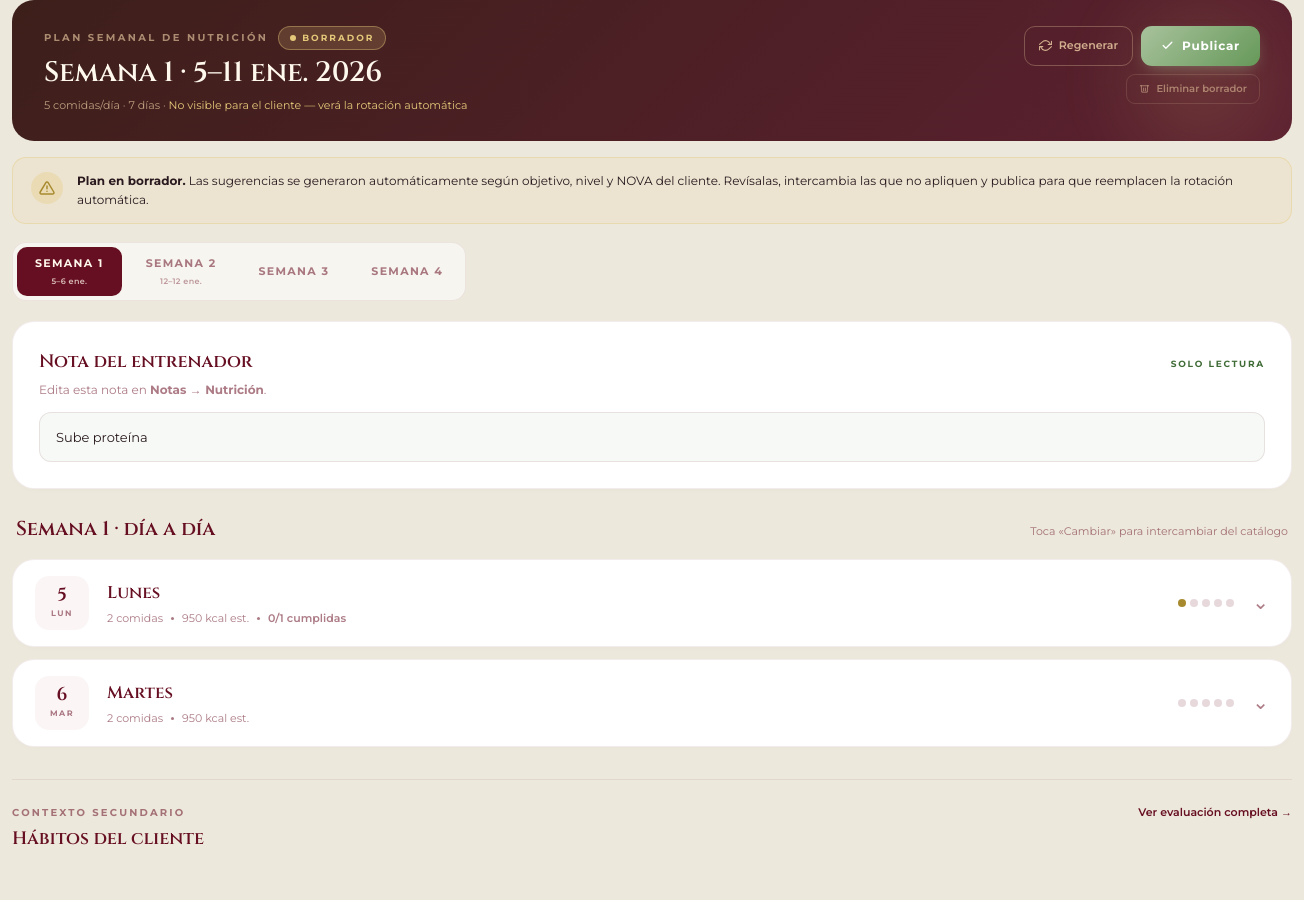
ClientNutritionTab › renders the not_done log status label for a meal entry
The image size is (1304, 900).
expect the text "Borrador" is shown: met, box [278, 26, 386, 50]
Click the 1st text "2 comidas" at (135, 619), box [107, 610, 163, 628]
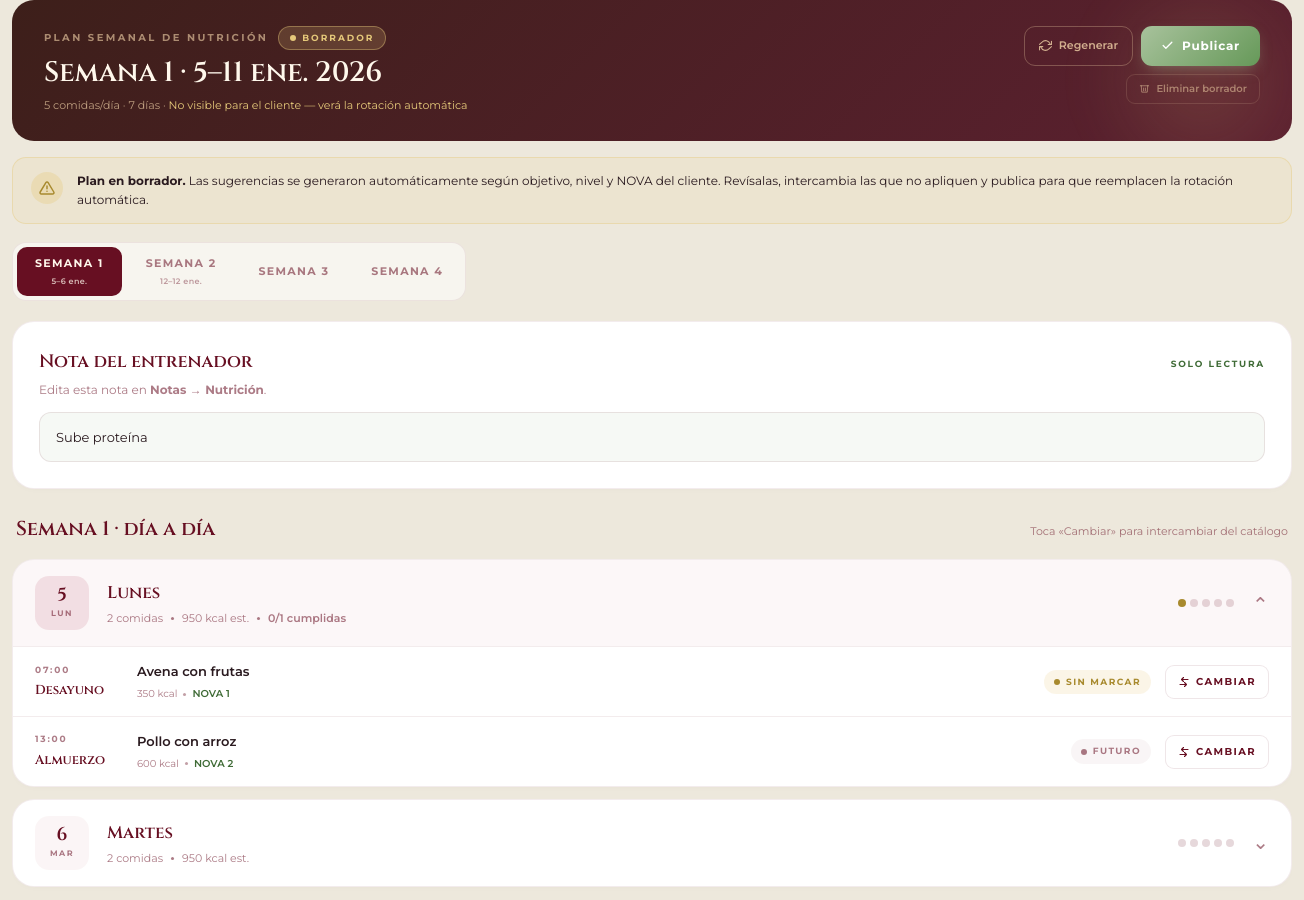
expect the text "Sin marcar" is shown: met, box [1044, 670, 1151, 694]
